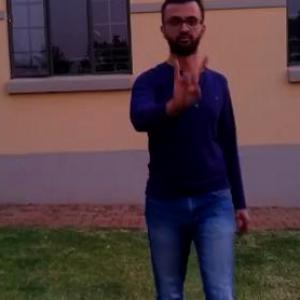takeoff-hand: (158, 48, 210, 113)
